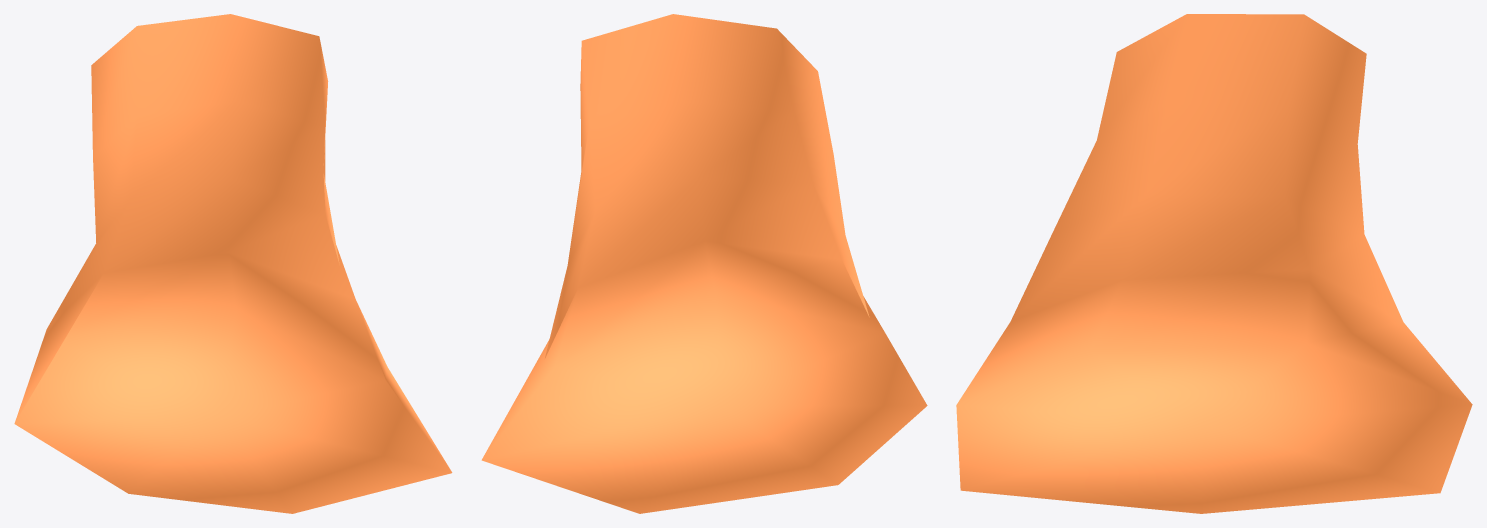
File: prop-volcano-03.glb
3 renders of one model, left to right at view 1: azimuth 30°, elevation 25°; view 2: azimuth 150°, elevation 25°; view 3: azimuth 270°, elevation 25°, orthographic. The views are drawn at different scales.
Visible parts, largest first — view 1: volcano; view 2: volcano; view 3: volcano.
Part boxes in pixels (x1=…): volcano: x1=14, y1=14, x2=452, y2=513; volcano: x1=481, y1=14, x2=927, y2=513; volcano: x1=956, y1=14, x2=1472, y2=513.
Bounding box in the file's own units: 0.9897 × 1 × 1.27.
